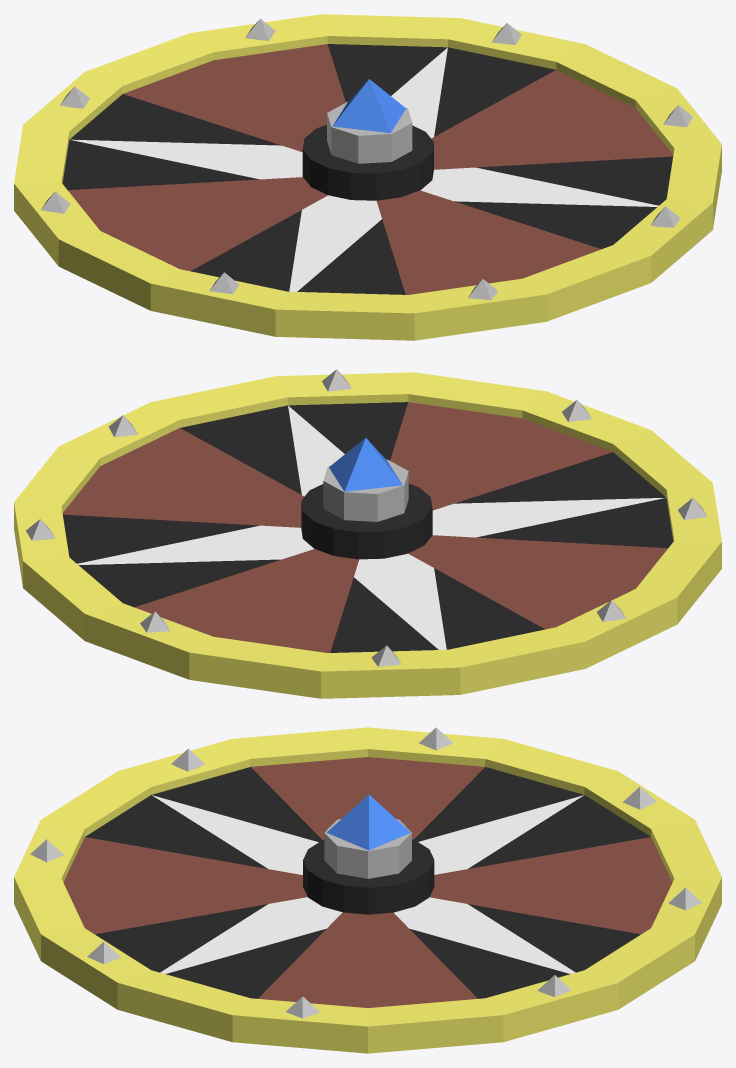
File: Shield_1_e_r.fbx
3 renders of one model, top to bottom at view 1: azimuth 30°, elevation 25°; view 2: azimuth 150°, elevation 25°; view 3: azimuth 270°, elevation 25°, orthographic.
Visible parts, largest first — view 1: Circle.106, Circle.105, Circle.108, Circle.107, Circle.103, Circle.104, Cone.236; view 2: Circle.106, Circle.105, Circle.108, Circle.107, Circle.103, Circle.104, Cone.236; view 3: Circle.106, Circle.105, Circle.108, Circle.107, Circle.103, Circle.104, Cone.236.
Boxes of the visible parts, x1=… form: Circle.106: x1=14, y1=14, x2=721, y2=340; Circle.105: x1=68, y1=44, x2=673, y2=294; Circle.108: x1=62, y1=44, x2=672, y2=294; Circle.107: x1=70, y1=47, x2=658, y2=291; Circle.103: x1=302, y1=124, x2=433, y2=200; Circle.104: x1=327, y1=101, x2=412, y2=163; Cone.236: x1=332, y1=79, x2=405, y2=132; Circle.106: x1=14, y1=372, x2=721, y2=698; Circle.105: x1=62, y1=402, x2=667, y2=652; Circle.108: x1=63, y1=402, x2=673, y2=652; Circle.107: x1=77, y1=405, x2=665, y2=649; Circle.103: x1=301, y1=483, x2=432, y2=559; Circle.104: x1=323, y1=459, x2=408, y2=521; Cone.236: x1=329, y1=437, x2=402, y2=491; Circle.106: x1=14, y1=727, x2=721, y2=1053; Circle.105: x1=63, y1=757, x2=672, y2=1007; Circle.108: x1=85, y1=767, x2=650, y2=998; Circle.107: x1=152, y1=795, x2=583, y2=973; Circle.103: x1=303, y1=839, x2=434, y2=914; Circle.104: x1=324, y1=819, x2=411, y2=878; Cone.236: x1=327, y1=794, x2=410, y2=850.
Bounding box in the file's own units: 80.85 × 24.85 × 80.85.
